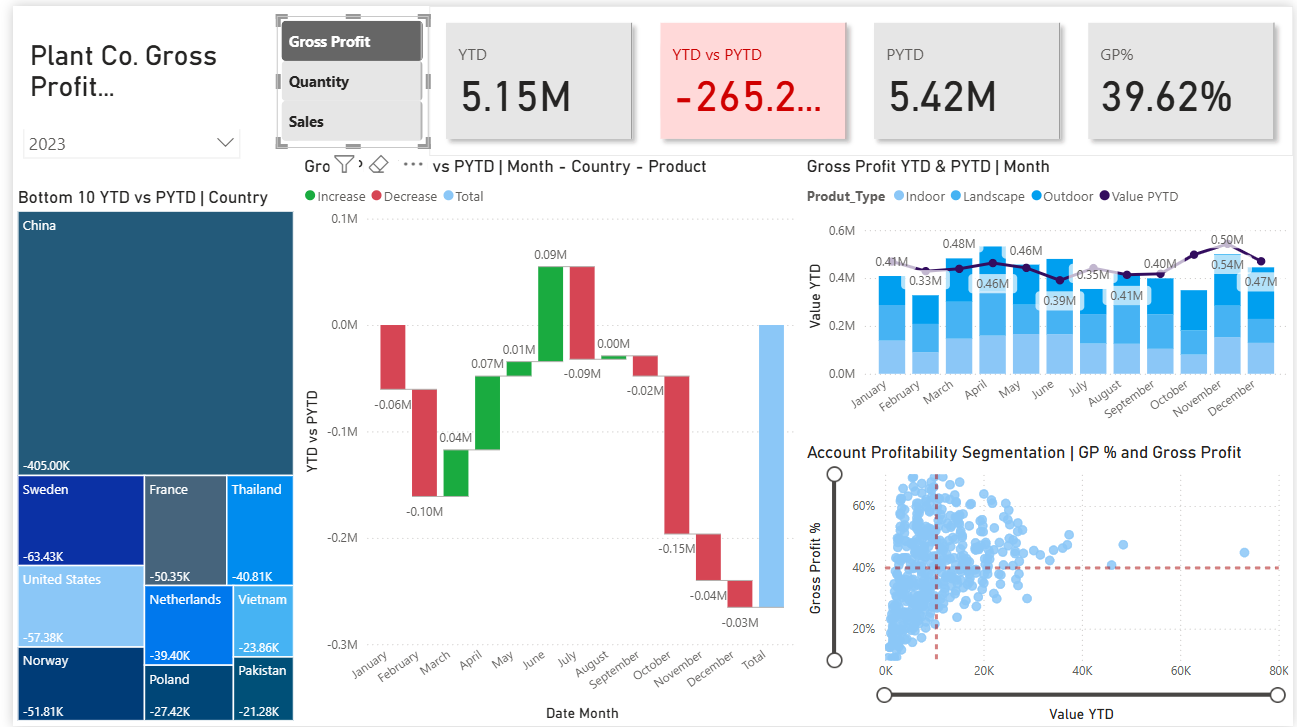

This screenshot's page, from the dashboard's own definition file:
{"tool":"powerbi","page":{"name":"Performance Report","canvas":[1280,720],"ordinal":0},"visuals":[{"type":"cardVisual","fields":{"Data":["_Measures.Switch_YTD","_Measures.YTD vs PYTD","_Measures.Switch_PYTD","_Measures.GP%"]},"box":[415.7,0,864.3,150],"z":0},{"type":"slicer","fields":{"Values":["Dim_Date.Date.Variation.Date Hierarchy.Year"]},"box":[0,110,237.1,71.4],"z":1000},{"type":"advancedSlicerVisual","fields":{"Values":["Slicer_Values.Values"]},"box":[264.3,10,151.4,132.9],"z":2000},{"type":"treemap","title":"Bottom 10 YTD vs PYTD | Country","fields":{"Values":["_Measures.YTD vs PYTD"],"Group":["Dim_Account.country"]},"box":[0,181.4,285.7,538.6],"z":3000},{"type":"waterfallChart","fields":{"Y":["_Measures.YTD vs PYTD"],"Category":["Dim_Date.Date.Variation.Date Hierarchy.Month","Dim_Account.country","Dim_Product.Produt_Type","Dim_Product.Product_Name"]},"box":[285.7,150,502.9,570],"z":4000},{"type":"lineStackedColumnComboChart","fields":{"Y":["_Measures.Switch_YTD"],"Category":["Dim_Date.Date.Variation.Date Hierarchy.Quarter","Dim_Date.Date.Variation.Date Hierarchy.Month"],"Y2":["_Measures.Switch_PYTD"],"Series":["Dim_Product.Produt_Type"]},"box":[788.6,150,491.4,285.7],"z":5000},{"type":"scatterChart","fields":{"Y":["_Measures.GP%"],"X":["_Measures.Switch_YTD"],"Category":["Dim_Account.Account"]},"box":[788.6,435.7,491.4,284.3],"z":6000},{"type":"cardVisual","fields":{"Data":["_Measures._Report Title"]},"box":[0,0,264.3,122.9],"z":6001}]}

Visuals, with their boxes in screenshot pixels (x1, y1, x2, y2), scaled from the page's 1280x720 canvas onto the 1297x727 screenshot:
cardVisual - _Measures.Switch_YTD x _Measures.YTD vs PYTD: {"x1": 421, "y1": 0, "x2": 1296, "y2": 151}
slicer - Dim_Date.Date.Variation.Date Hierarchy.Year: {"x1": 0, "y1": 111, "x2": 240, "y2": 183}
advancedSlicerVisual - Slicer_Values.Values: {"x1": 268, "y1": 10, "x2": 421, "y2": 144}
"Bottom 10 YTD vs PYTD | Country" treemap: {"x1": 0, "y1": 183, "x2": 289, "y2": 726}
waterfallChart - _Measures.YTD vs PYTD x Dim_Date.Date.Variation.Date Hierarchy.Month: {"x1": 289, "y1": 151, "x2": 799, "y2": 726}
lineStackedColumnComboChart - _Measures.Switch_YTD x Dim_Date.Date.Variation.Date Hierarchy.Quarter: {"x1": 799, "y1": 151, "x2": 1296, "y2": 440}
scatterChart - _Measures.GP% x _Measures.Switch_YTD: {"x1": 799, "y1": 440, "x2": 1296, "y2": 726}
cardVisual - _Measures._Report Title: {"x1": 0, "y1": 0, "x2": 268, "y2": 124}
